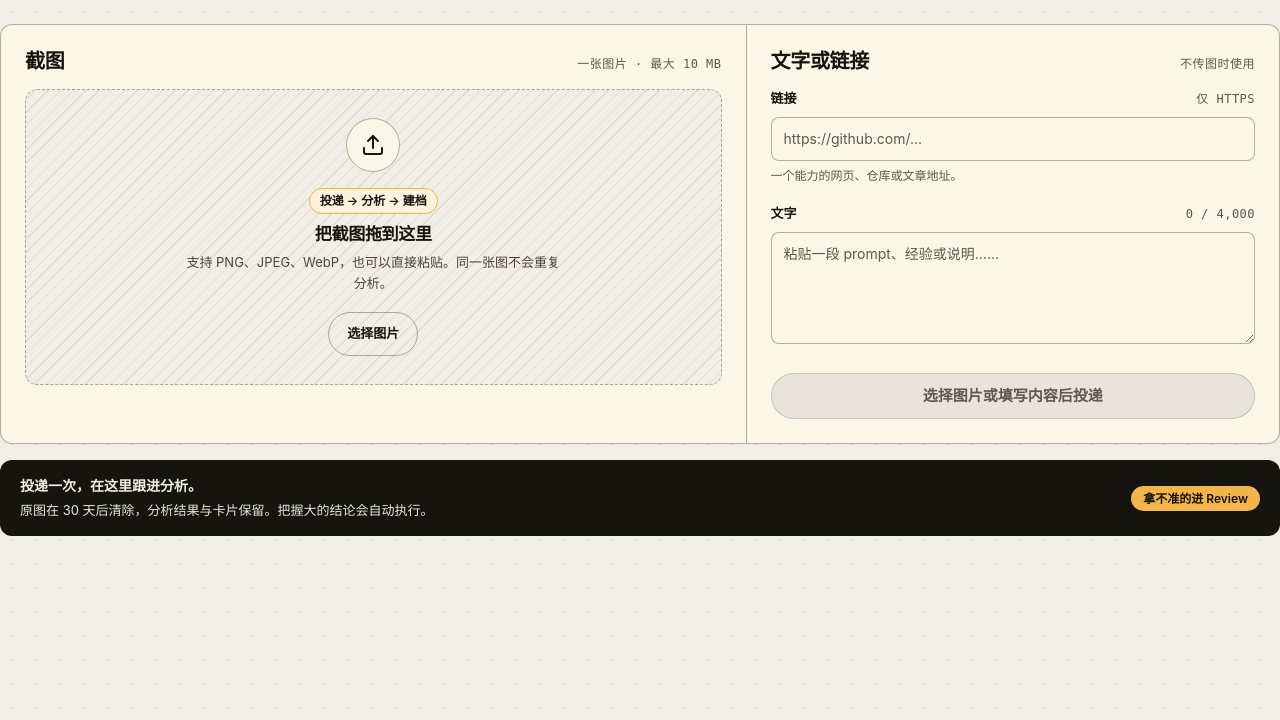
Test: CaptureForm › blocks submit and warns when both link and text are filled
The image size is (1280, 720).
Type "https://example.com" into the field labelled "链接 仅 HTTPS" at [1013, 139], box [770,117,1255,161]
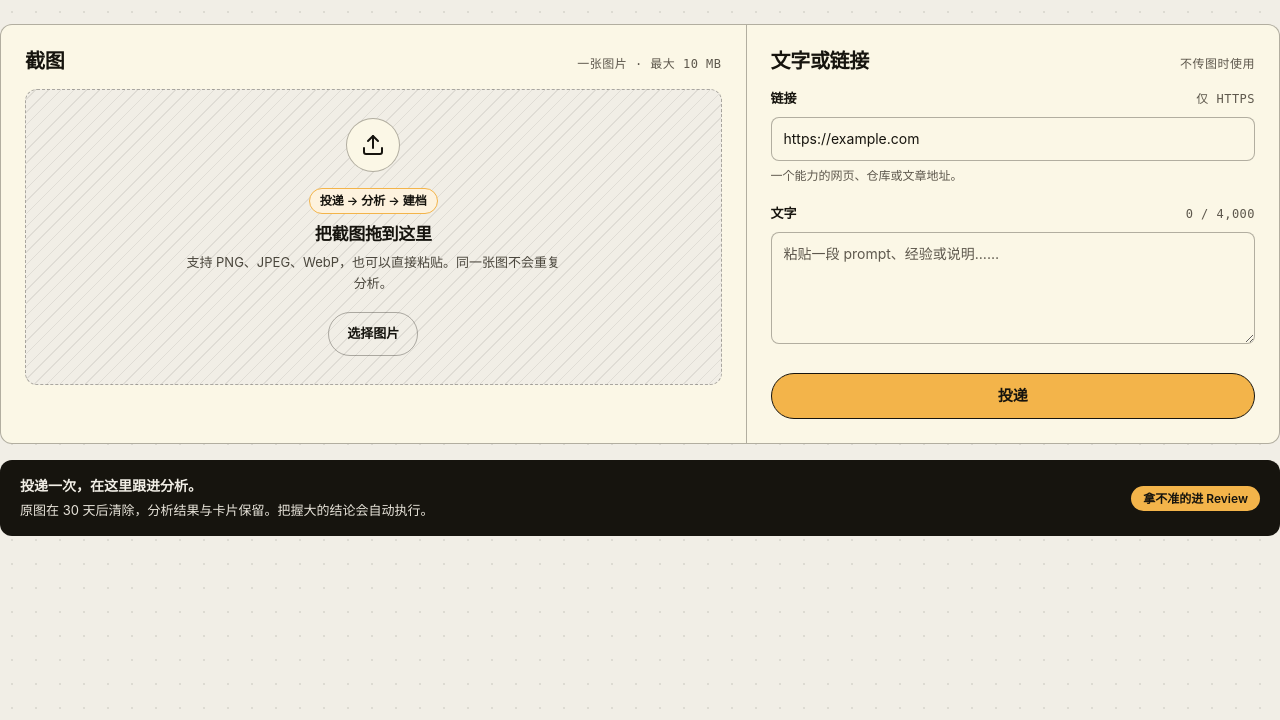
Type "some text" into the text box labelled "文字 0 / 4,000" at [1013, 288], box [770,232,1255,344]
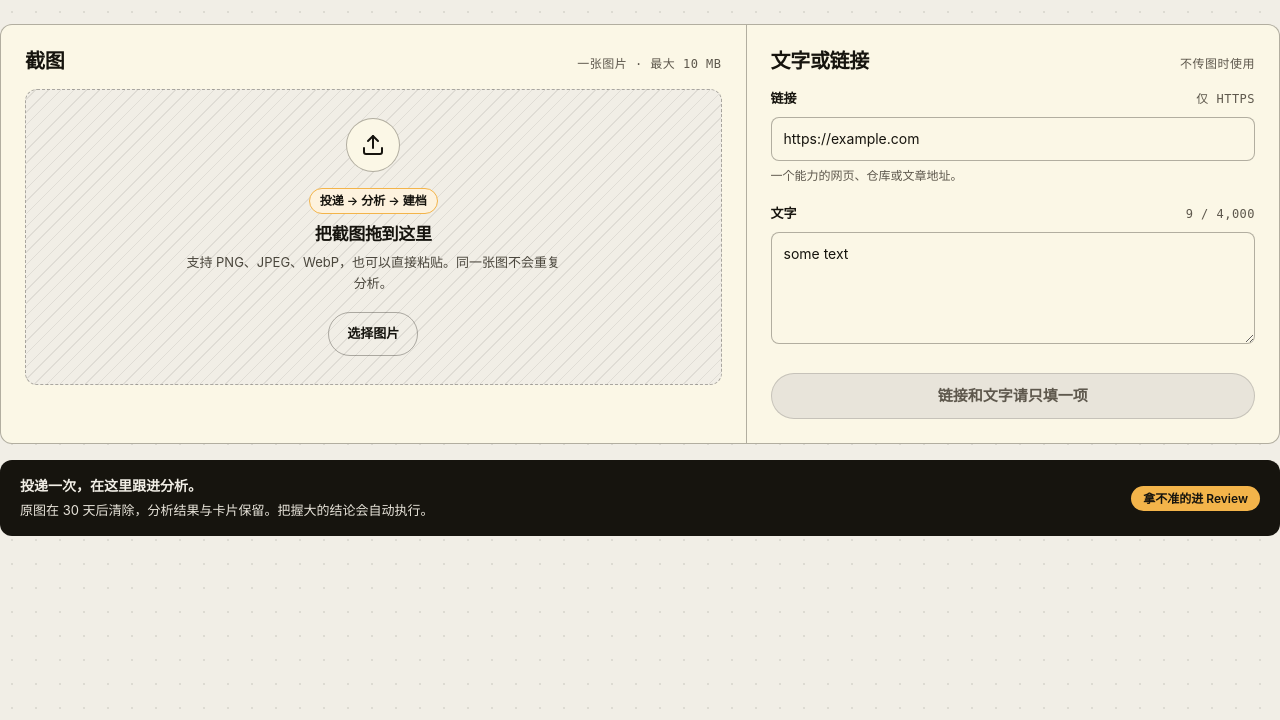
Expected: the button "链接和文字请只填一项" is disabled, [770,373,1255,419]
